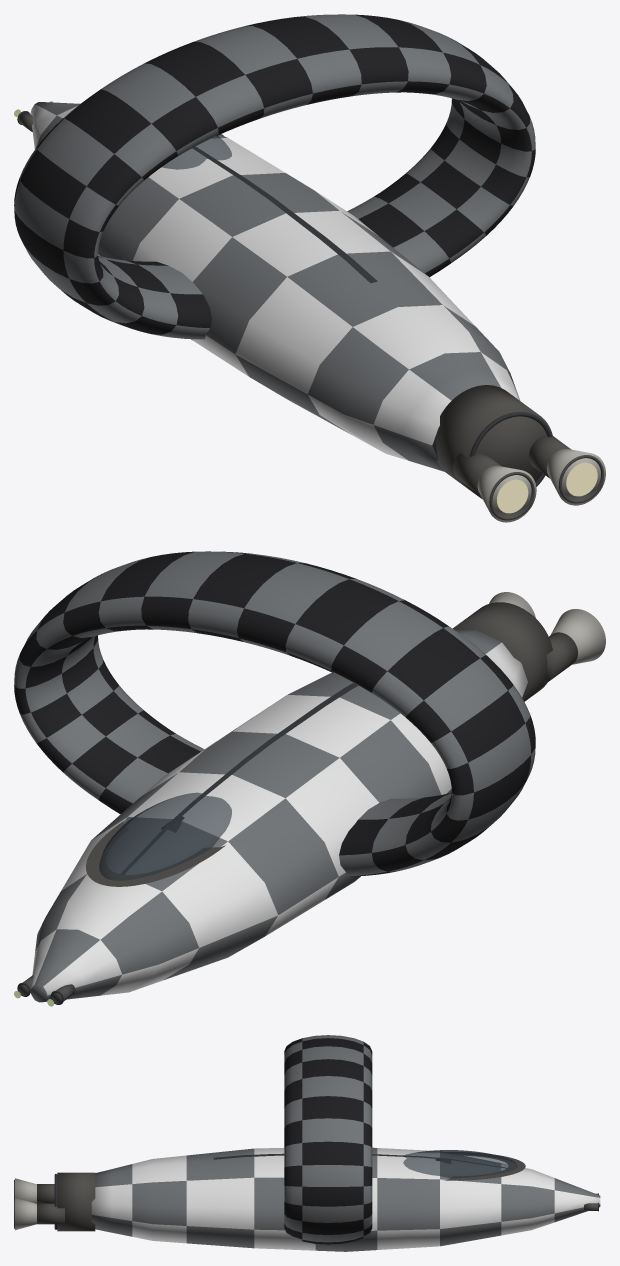
File: Ship_Hooper_740839.glb
3 renders of one model, top to bottom at view 1: azimuth 30°, elevation 25°; view 2: azimuth 150°, elevation 25°; view 3: azimuth 270°, elevation 25°, orthographic. The views are drawn at different scales.
Visible parts, largest first — view 1: Hoop_MainStructuralRing_YAxisHole_ElongatedY_LowerMidpointAt, Fuselage_MainCenteredHull_CenterOfMassAtOrigin, EngineBlock_AftHullIntegratedMountPlate, EngineEmitter, EngineBell_Left_AftHullBurnishedNozzle, EngineBell_Right_AftHullBurnishedNozzle, FuselageLongitudinalSeam_DorsalDarkSpine, CanopyGlass_LowForwardPodDome, EngineThroat_Left_AftHullDarkSocket, EngineThroat_Right_AftHullDarkSocket; view 2: Hoop_MainStructuralRing_YAxisHole_ElongatedY_LowerMidpointAt, Fuselage_MainCenteredHull_CenterOfMassAtOrigin, CanopyGlass_LowForwardPodDome, EngineBlock_AftHullIntegratedMountPlate, CanopyFrame_LowInsetOvalRim, EngineBell_Left_AftHullBurnishedNozzle, FuselageLongitudinalSeam_DorsalDarkSpine, EngineThroat_Left_AftHullDarkSocket; view 3: Fuselage_MainCenteredHull_CenterOfMassAtOrigin, Hoop_MainStructuralRing_YAxisHole_ElongatedY_LowerMidpointAt, CanopyGlass_LowForwardPodDome, EngineBlock_AftHullIntegratedMountPlate, CanopyFrame_LowInsetOvalRim, EngineBell_Right_AftHullBurnishedNozzle, EngineThroat_Right_AftHullDarkSocket, EngineBell_Left_AftHullBurnishedNozzle, FuselageLongitudinalSeam_DorsalDarkSpine, EngineThroat_Left_AftHullDarkSocket.
Boxes of the visible parts, x1,y1,x2,y2 form: Hoop_MainStructuralRing_YAxisHole_ElongatedY_LowerMidpointAt: [14, 14, 535, 339]; Fuselage_MainCenteredHull_CenterOfMassAtOrigin: [30, 102, 520, 471]; EngineBlock_AftHullIntegratedMountPlate: [436, 385, 552, 499]; EngineEmitter: [497, 462, 597, 513]; EngineBell_Left_AftHullBurnishedNozzle: [477, 465, 536, 522]; EngineBell_Right_AftHullBurnishedNozzle: [547, 448, 605, 505]; FuselageLongitudinalSeam_DorsalDarkSpine: [192, 146, 377, 283]; CanopyGlass_LowForwardPodDome: [162, 135, 231, 169]; EngineThroat_Left_AftHullDarkSocket: [453, 452, 501, 495]; EngineThroat_Right_AftHullDarkSocket: [529, 435, 571, 478]; Hoop_MainStructuralRing_YAxisHole_ElongatedY_LowerMidpointAt: [14, 551, 535, 876]; Fuselage_MainCenteredHull_CenterOfMassAtOrigin: [30, 630, 527, 1002]; CanopyGlass_LowForwardPodDome: [99, 792, 231, 880]; EngineBlock_AftHullIntegratedMountPlate: [452, 602, 552, 701]; CanopyFrame_LowInsetOvalRim: [86, 820, 225, 886]; EngineBell_Left_AftHullBurnishedNozzle: [551, 609, 605, 664]; FuselageLongitudinalSeam_DorsalDarkSpine: [121, 683, 357, 874]; EngineThroat_Left_AftHullDarkSocket: [543, 632, 577, 683]; Fuselage_MainCenteredHull_CenterOfMassAtOrigin: [91, 1147, 600, 1251]; Hoop_MainStructuralRing_YAxisHole_ElongatedY_LowerMidpointAt: [284, 1035, 372, 1244]; CanopyGlass_LowForwardPodDome: [403, 1150, 517, 1178]; EngineBlock_AftHullIntegratedMountPlate: [57, 1172, 95, 1231]; CanopyFrame_LowInsetOvalRim: [444, 1152, 525, 1180]; EngineBell_Right_AftHullBurnishedNozzle: [15, 1198, 36, 1230]; EngineThroat_Right_AftHullDarkSocket: [37, 1203, 64, 1224]; EngineBell_Left_AftHullBurnishedNozzle: [15, 1178, 36, 1203]; FuselageLongitudinalSeam_DorsalDarkSpine: [213, 1153, 506, 1168]; EngineThroat_Left_AftHullDarkSocket: [37, 1184, 54, 1203].
Size of the model in its own units: 3.43 by 2.19 by 6.42.
